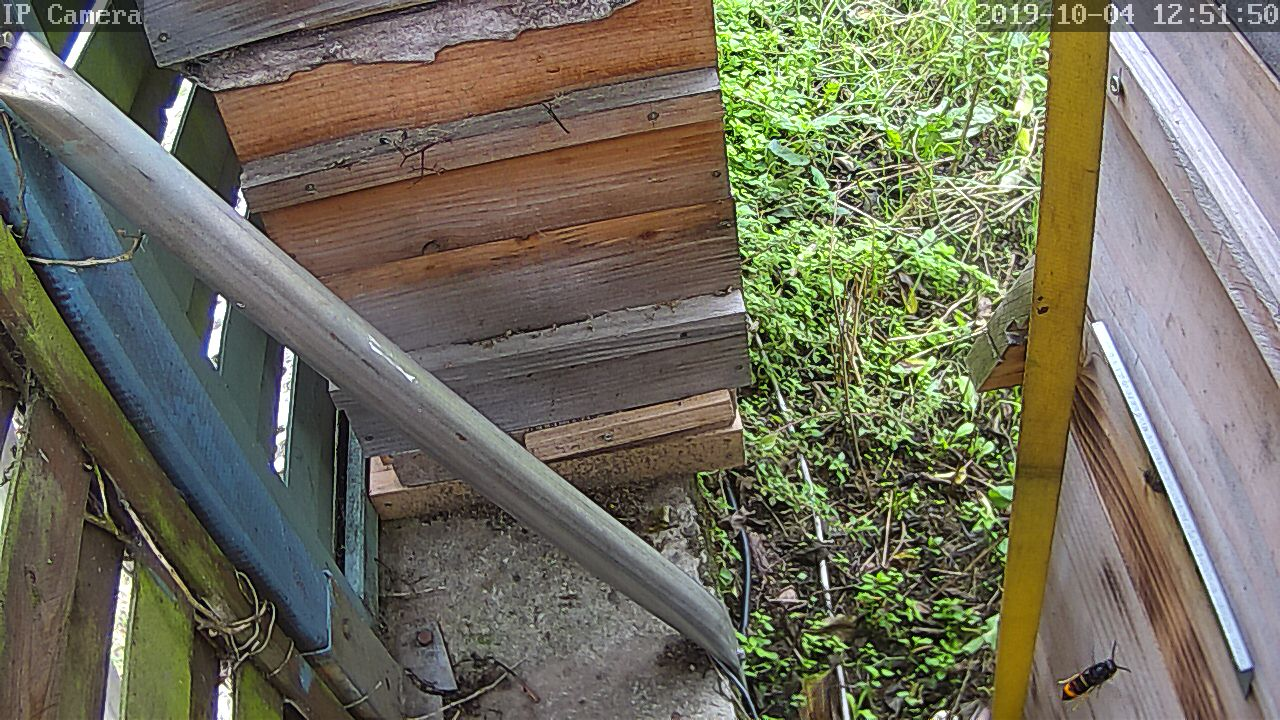bee: (1131, 462, 1167, 497)
hornet: (1050, 651, 1132, 704)
